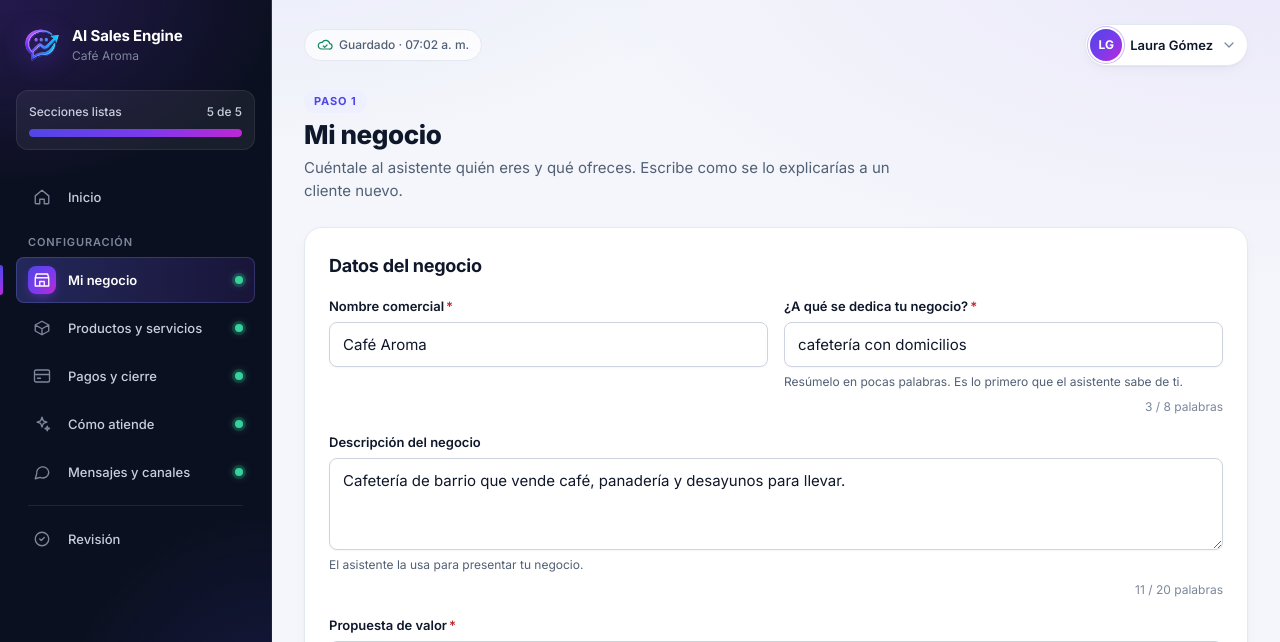
Guardado y carga de la configuración › si el guardado falla no muestra «Guardado», lo informa y permite reintentar
Expected: the heading "Mi negocio" is shown, x1=304 y1=119 x2=910 y2=150
Type " Plus" into the field labelled "Nombre comercial*".
click(548, 344); type(" Plus")  # box x1=329 y1=322 x2=768 y2=367
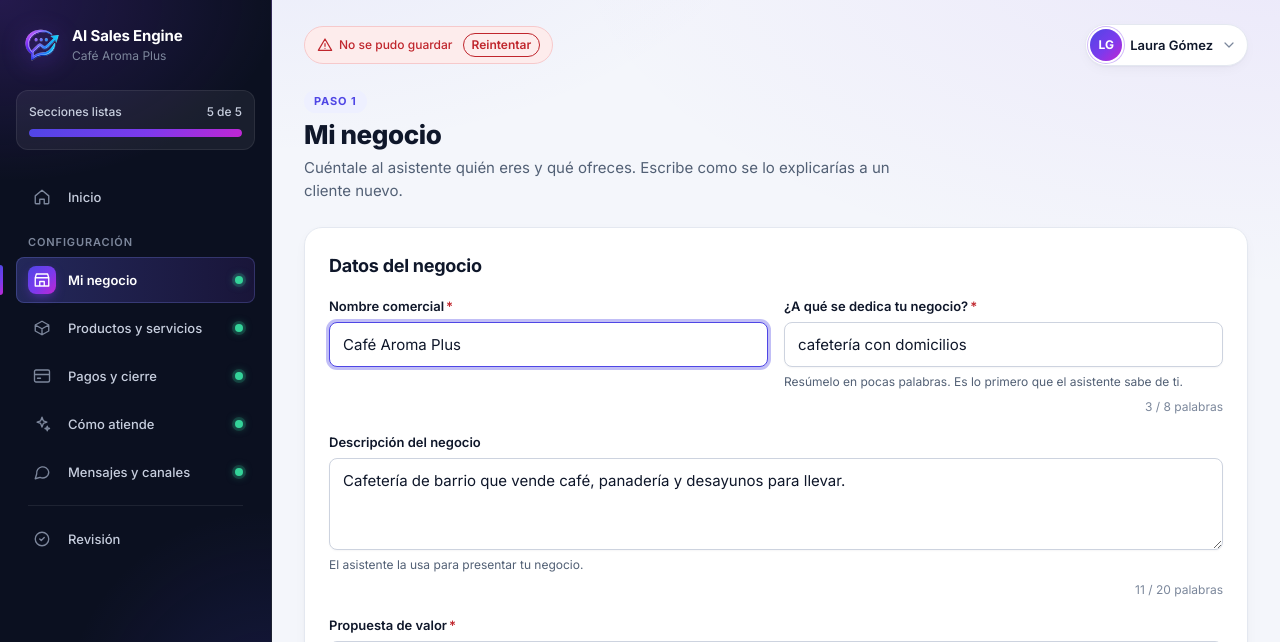
Expected: the text "No se pudo guardar" is shown, x1=317 y1=36 x2=452 y2=54
Expected: the text "Guardado ·" is gone
Click the button "Reintentar".
click(501, 45)  # box x1=462 y1=33 x2=540 y2=57
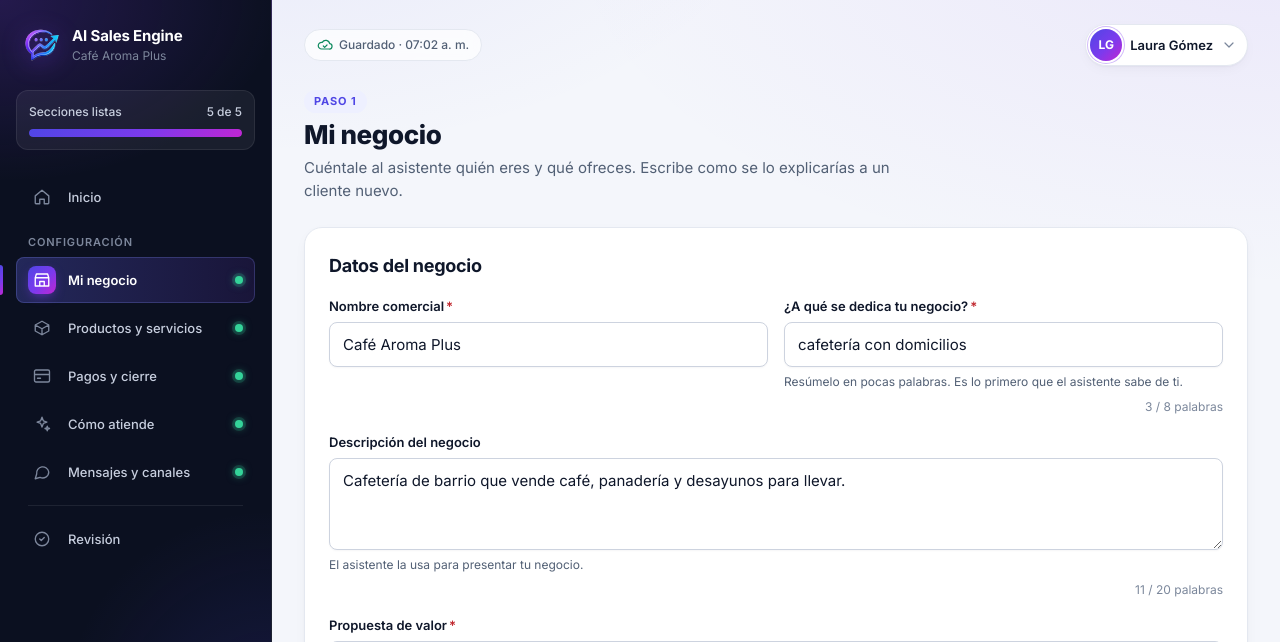
Expected: the text "Café Aroma Plus" is shown, x1=72 y1=47 x2=182 y2=66
Expected: the text "Guardado · 07:02 a. m." is shown, x1=317 y1=36 x2=469 y2=54
